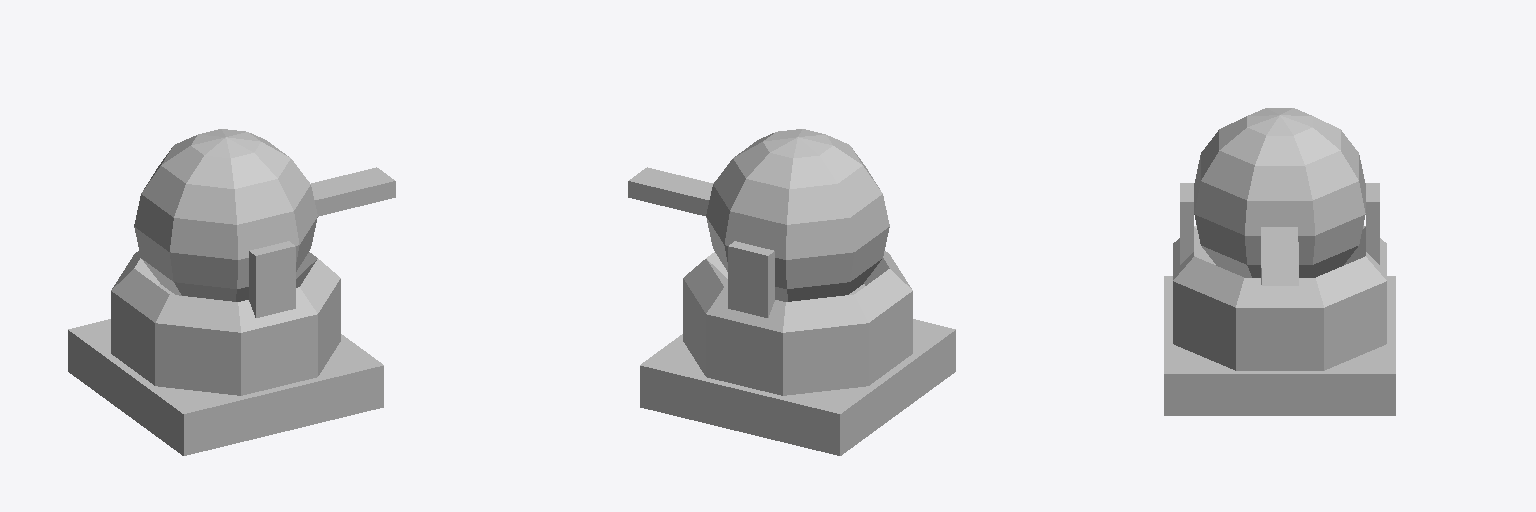
Rendered from turret.obj.
3 views of the same model, side by side, from view 1: azimuth 30°, elevation 25°; view 2: azimuth 150°, elevation 25°; view 3: azimuth 270°, elevation 25° (orthographic).
Parts seen in each view (by area): view 1: ball, mid, baseCube; view 2: ball, mid, baseCube; view 3: ball, mid, baseCube.
Boxes of the visible parts, x1,y1,x2,y2 form: ball: [134, 129, 395, 301]; mid: [111, 241, 340, 395]; baseCube: [68, 319, 383, 455]; ball: [628, 129, 889, 301]; mid: [683, 241, 912, 395]; baseCube: [640, 319, 955, 455]; ball: [1194, 108, 1365, 285]; mid: [1173, 183, 1386, 370]; baseCube: [1164, 276, 1395, 415].
Size of the model in its own units: 3.25 by 3 by 2.5.